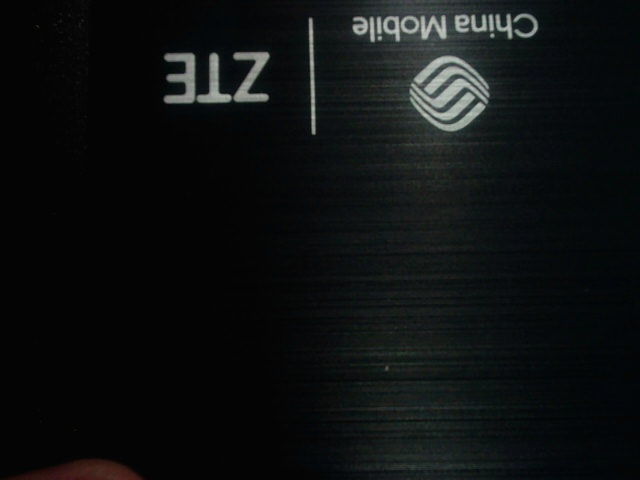AL_ZTEChinaMobile: (139, 6, 544, 144)
